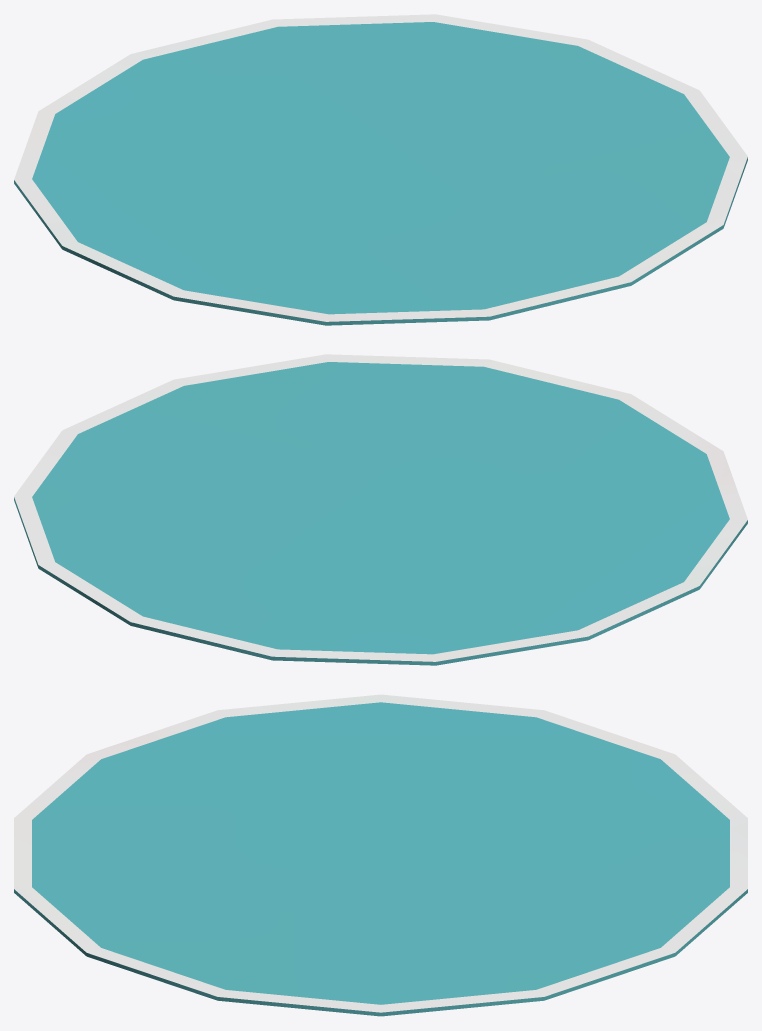
The model's file is Pond.fbx.
The picture shows the model from 3 angles, top to bottom: view 1: azimuth 30°, elevation 25°; view 2: azimuth 150°, elevation 25°; view 3: azimuth 270°, elevation 25°; orthographic projection. The views are drawn at different scales.
Visible parts, largest first — view 1: pCylinder37; view 2: pCylinder37; view 3: pCylinder37.
Boxes of the visible parts, x1,y1,x2,y2 form: pCylinder37: (14, 14, 747, 325); pCylinder37: (14, 354, 747, 665); pCylinder37: (14, 694, 747, 1016).
Size of the model in its own units: 1173 by 6.6 by 1143.
